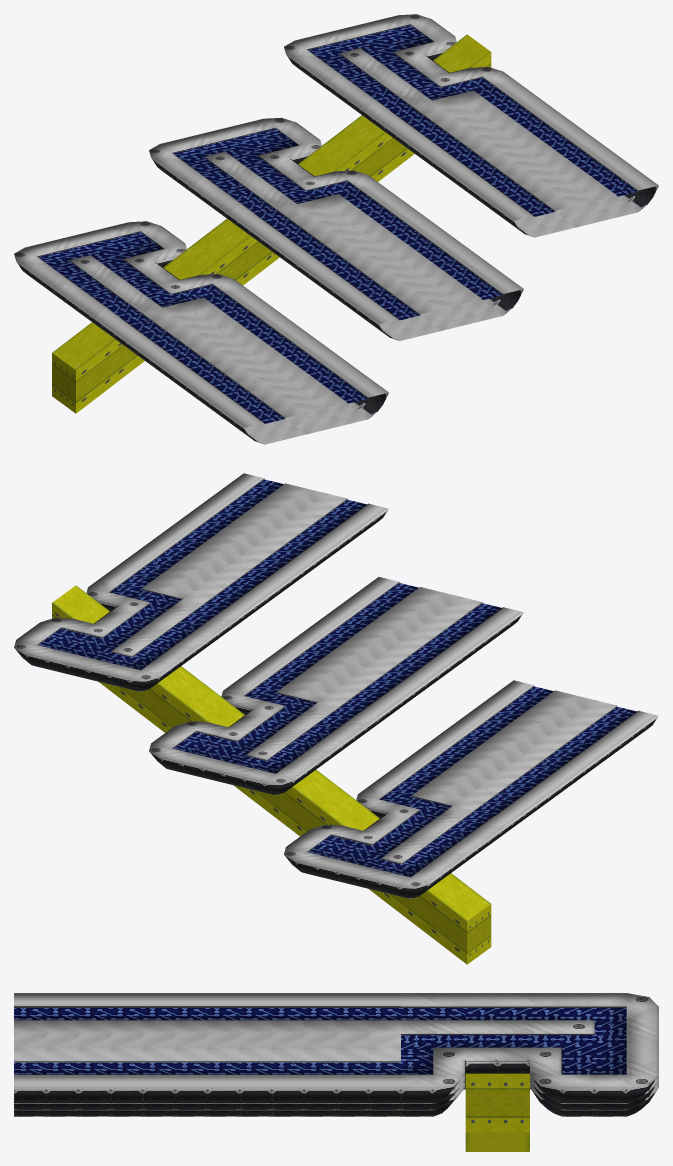
The model's file is improved_stair_5.glb.
The picture shows the model from 3 angles, top to bottom: view 1: azimuth 30°, elevation 25°; view 2: azimuth 150°, elevation 25°; view 3: azimuth 270°, elevation 25°; orthographic projection. The views are drawn at different scales.
Parts seen in each view (by area): view 1: Cube.018; view 2: Cube.018; view 3: Cube.018.
Part boxes in pixels (x1=…): Cube.018: x1=14, y1=14, x2=658, y2=444; Cube.018: x1=14, y1=473, x2=658, y2=964; Cube.018: x1=14, y1=993, x2=658, y2=1151.
Bounding box in the file's own units: 2 × 1.2 × 2.
Materials: 1 (1 with a texture image).
